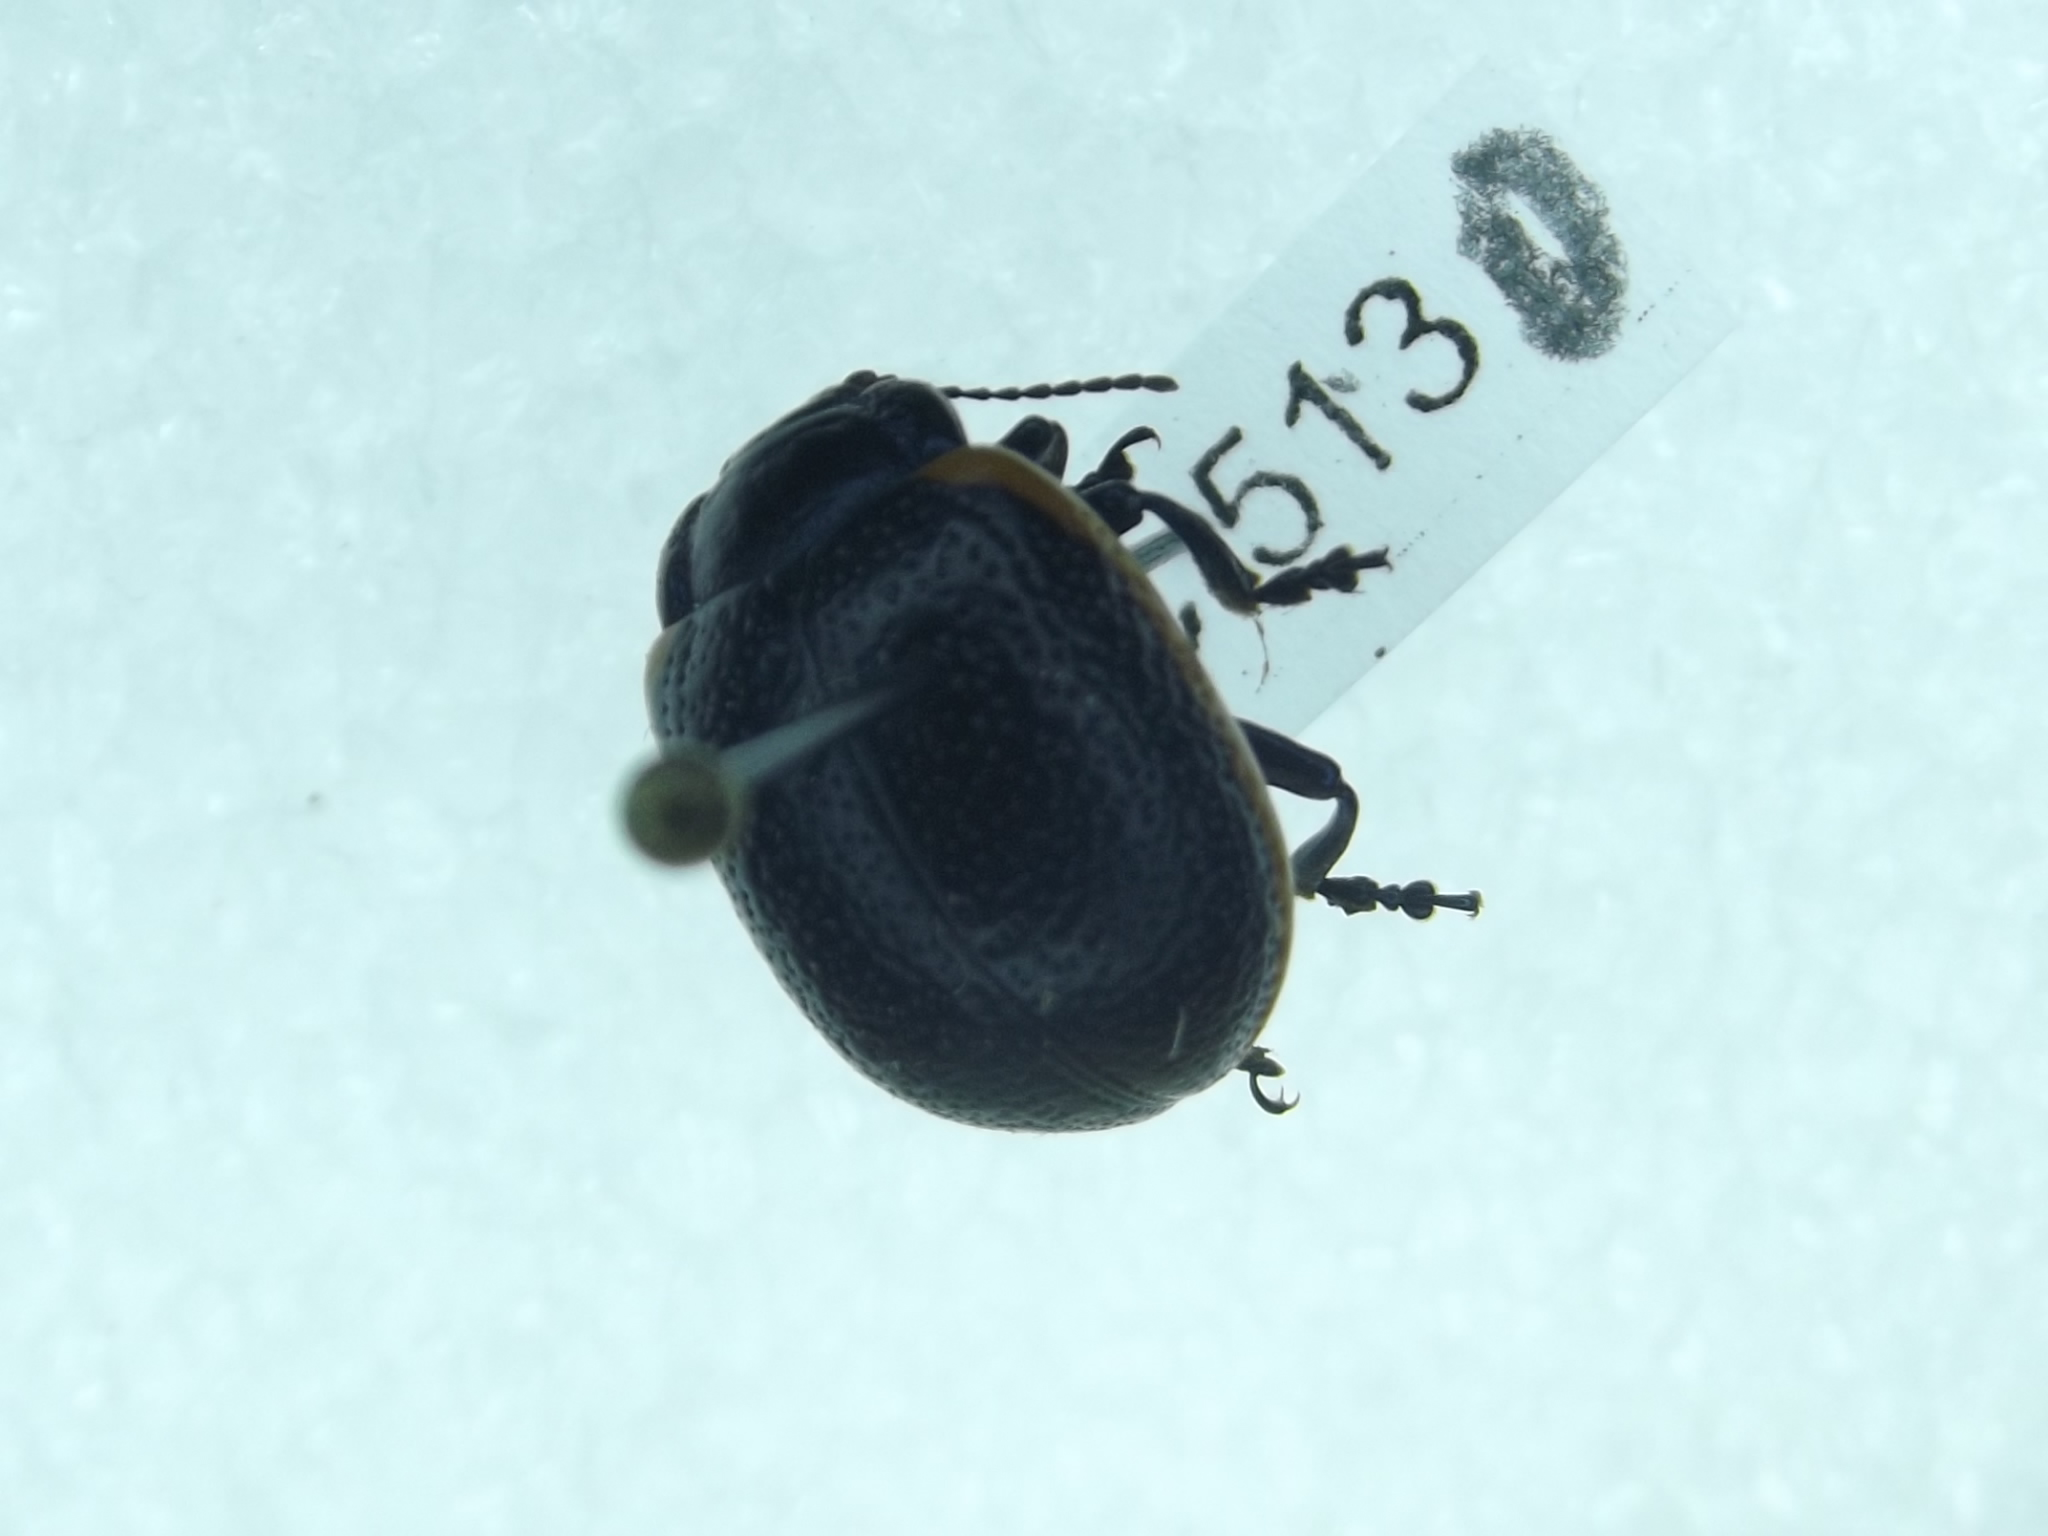Chrysolina_gypsophila: (627, 324, 1514, 1163)
